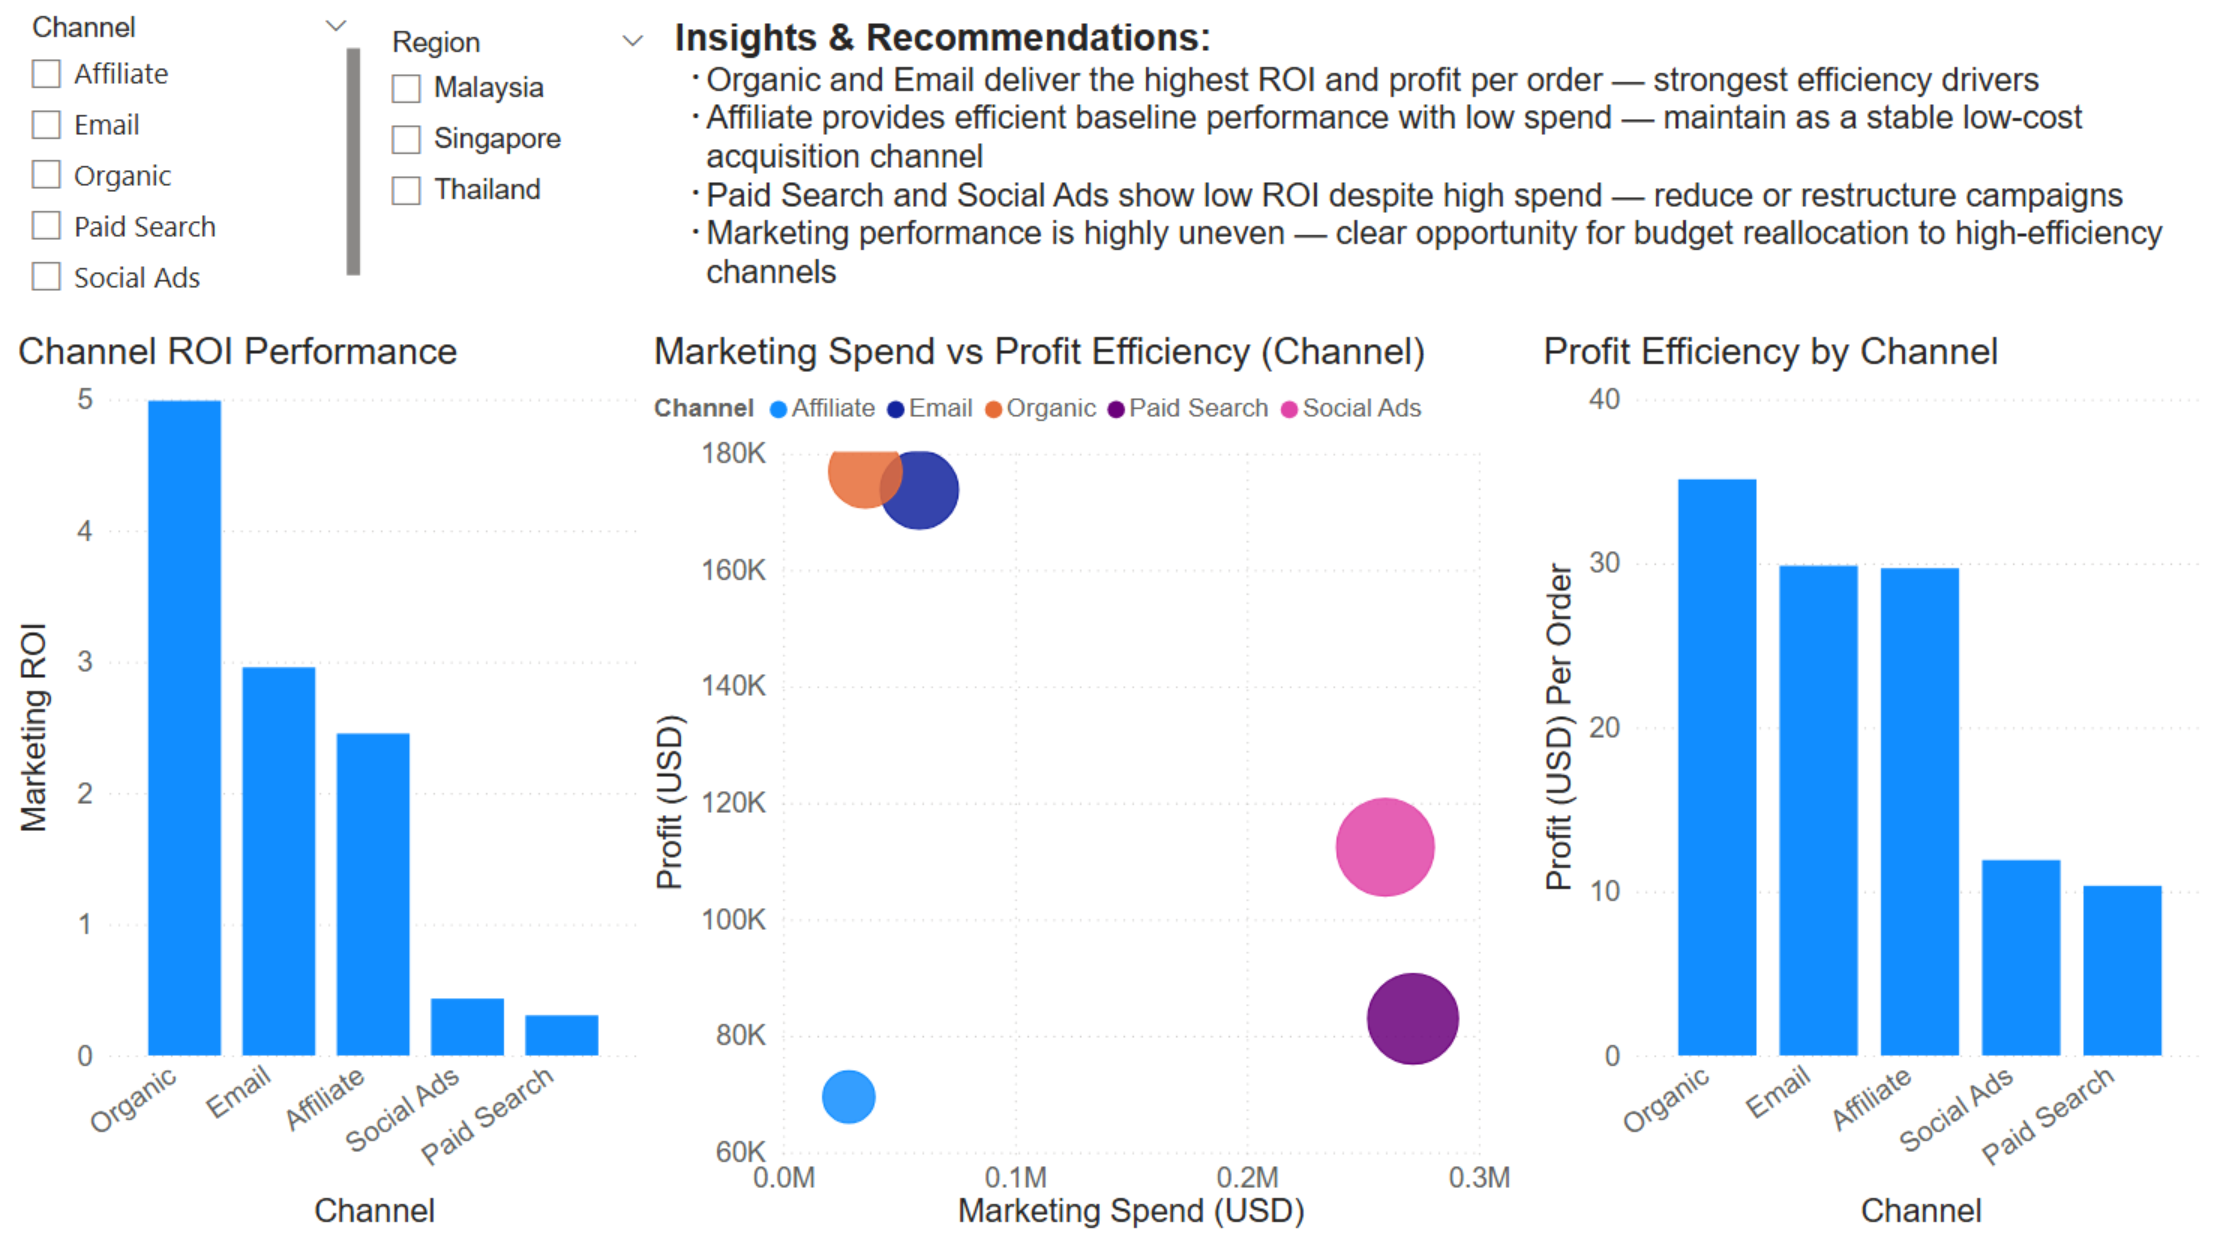

Layout of this report page (visuals, bound fields, positions):
{"tool":"powerbi","page":{"name":"Customer & Marketing Insights","canvas":[1280,720],"ordinal":2},"visuals":[{"type":"clusteredColumnChart","title":"Channel ROI Performance","fields":{"Category":["ecommerce_realistic_dataset_150_rows.Channel"],"Y":["ecommerce_realistic_dataset_150_rows.Marketing_ROI"]},"box":[10.7,195.1,364.9,518],"z":0},{"type":"scatterChart","title":"Marketing Spend vs Profit Efficiency (Channel)","fields":{"X":["Sum(ecommerce_realistic_dataset_150_rows.Mkting_Spend)"],"Y":["Sum(ecommerce_realistic_dataset_150_rows.Profit)"],"Series":["ecommerce_realistic_dataset_150_rows.Channel"],"Size":["Sum(ecommerce_realistic_dataset_150_rows.Orders)"]},"box":[374.6,195.1,499.5,518],"z":1000},{"type":"clusteredColumnChart","title":"Profit Efficiency by Channel ","fields":{"Category":["ecommerce_realistic_dataset_150_rows.Channel"],"Y":["ecommerce_realistic_dataset_150_rows.Profit_Per_Order"]},"box":[882.9,195.1,388.3,518],"z":2000},{"type":"slicer","fields":{"Values":["ecommerce_realistic_dataset_150_rows.Channel"]},"box":[10.7,8.8,205.9,171.7],"z":3000},{"type":"slicer","fields":{"Values":["ecommerce_realistic_dataset_150_rows.Region"]},"box":[216.6,17.6,169.8,130.7],"z":4000},{"type":"textbox","box":[386.3,10.7,861.5,167.8],"z":5000}]}

Visuals, with their boxes in screenshot pixels (x1, y1, x2, y2), scaled from the page's 1280x720 canvas onto the 2224x1244 screenshot:
"Channel ROI Performance" clusteredColumnChart: select_region(19, 337, 653, 1232)
"Marketing Spend vs Profit Efficiency (Channel)" scatterChart: select_region(651, 337, 1519, 1232)
"Profit Efficiency by Channel " clusteredColumnChart: select_region(1534, 337, 2209, 1232)
slicer - ecommerce_realistic_dataset_150_rows.Channel: select_region(19, 15, 376, 312)
slicer - ecommerce_realistic_dataset_150_rows.Region: select_region(376, 30, 671, 256)
textbox: select_region(671, 18, 2168, 308)
